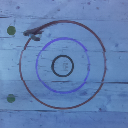Axe Tip: (31, 31, 42, 34)
